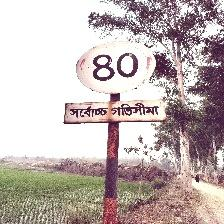Speed-limit: (65, 41, 166, 125)
